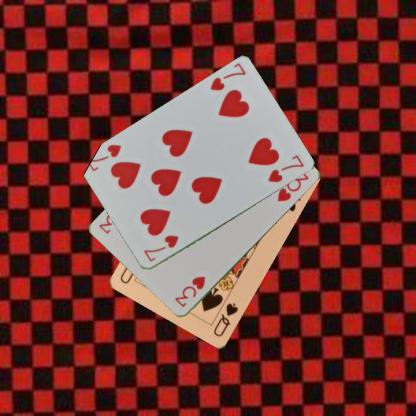3h: (172, 274, 206, 309)
7h: (141, 232, 180, 264), (208, 61, 248, 92)
Qs: (211, 300, 240, 338)
